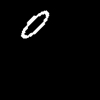chain: (21, 11, 48, 37)
